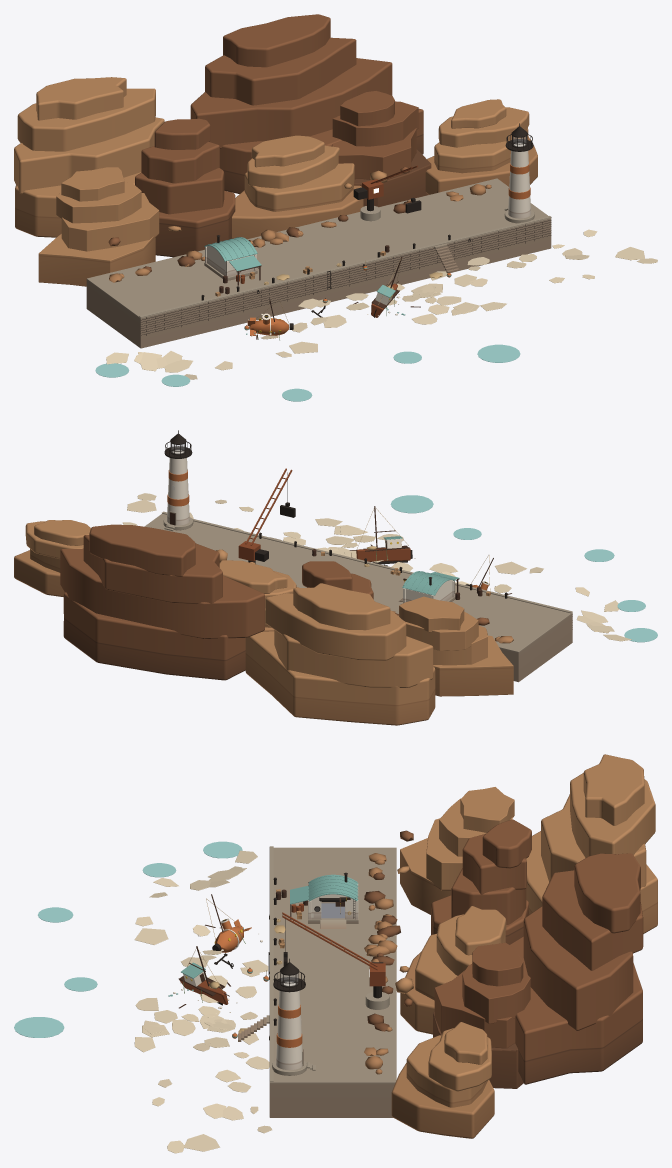
File: z0-port.glb
The picture shows the model from 3 angles, top to bottom: view 1: azimuth 30°, elevation 25°; view 2: azimuth 150°, elevation 25°; view 3: azimuth 270°, elevation 25°; orthographic projection. The views are drawn at different scales.
Parts seen in each view (by area): view 1: Z0_Terrain_Port, Z0_Terrain_Port_Quay, Z0_Terrain_Port_SandPlates, Z0_Terrain_Port_QuayCourses, Z0_Terrain_Port_Scree, Z0_Terrain_Port_Kerb, Z0_Architecture_Lighthouse_Tower, Z0_Architecture_Hangar_Roof, Z0_Terrain_Port_Scree_Dark; view 2: Z0_Terrain_Port, Z0_Terrain_Port_Quay, Z0_Terrain_Port_SandPlates, Z0_Architecture_Lighthouse_Tower, Z0_Terrain_Port_Kerb, Z0_Props_Crane_rust, Z0_Architecture_Hangar_Roof, Z0_Props_BoatFishing_Hull; view 3: Z0_Terrain_Port, Z0_Terrain_Port_Quay, Z0_Terrain_Port_SandPlates, Z0_Terrain_Port_Scree, Z0_Architecture_Lighthouse_Tower, Z0_Terrain_Port_Scree_Dark, Z0_Terrain_Port_Kerb, Z0_Architecture_Hangar_Roof, Z0_Props_Crane_rust.
Boxes of the visible parts, box(x1,y1,x2,y2) form: Z0_Terrain_Port: box(14, 14, 537, 401); Z0_Terrain_Port_Quay: box(86, 178, 551, 348); Z0_Terrain_Port_SandPlates: box(106, 229, 657, 379); Z0_Terrain_Port_QuayCourses: box(141, 220, 551, 335); Z0_Terrain_Port_Scree: box(109, 170, 491, 282); Z0_Terrain_Port_Kerb: box(139, 216, 551, 317); Z0_Architecture_Lighthouse_Tower: box(508, 143, 530, 218); Z0_Architecture_Hangar_Roof: box(204, 237, 257, 261); Z0_Terrain_Port_Scree_Dark: box(108, 167, 411, 272); Z0_Terrain_Port: box(14, 495, 657, 725); Z0_Terrain_Port_Quay: box(145, 513, 572, 682); Z0_Terrain_Port_SandPlates: box(122, 493, 631, 641); Z0_Architecture_Lighthouse_Tower: box(167, 450, 189, 525); Z0_Terrain_Port_Kerb: box(162, 511, 572, 613); Z0_Props_Crane_rust: box(238, 468, 292, 561); Z0_Architecture_Hangar_Roof: box(402, 571, 455, 595); Z0_Props_BoatFishing_Hull: box(356, 548, 410, 561); Z0_Terrain_Port: box(14, 754, 657, 1138); Z0_Terrain_Port_Quay: box(269, 847, 396, 1117); Z0_Terrain_Port_SandPlates: box(134, 850, 272, 1153); Z0_Terrain_Port_Scree: box(364, 853, 413, 1074); Z0_Architecture_Lighthouse_Tower: box(276, 982, 302, 1070); Z0_Terrain_Port_Scree_Dark: box(364, 830, 413, 1031); Z0_Terrain_Port_Kerb: box(269, 846, 273, 1081); Z0_Architecture_Hangar_Roof: box(309, 874, 357, 901); Z0_Props_Crane_rust: box(282, 912, 385, 986).
Size of the model in its own units: 91.94 by 23.81 by 81.16.
